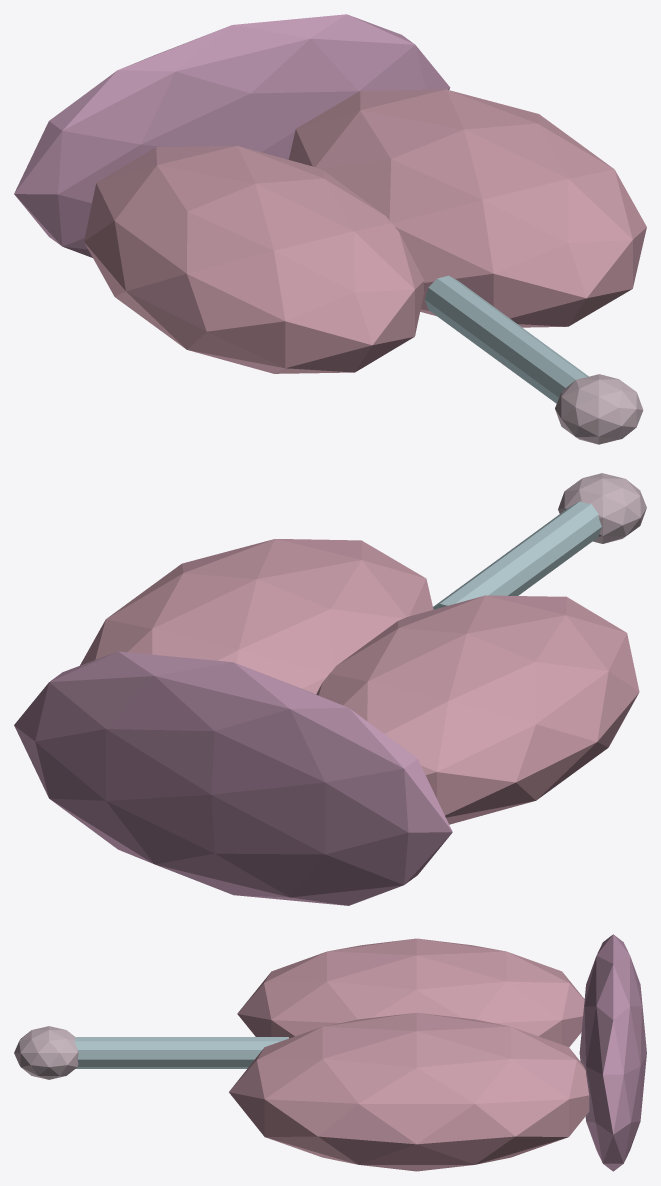
File: respiratory-g3-low.glb
3 views of the same model, one above another, from view 1: azimuth 30°, elevation 25°; view 2: azimuth 150°, elevation 25°; view 3: azimuth 270°, elevation 25° (orthographic). The views are drawn at different scales.
Visible parts, largest first — view 1: left_lung, right_lung, diaphragm, trachea, larynx_proxy; view 2: diaphragm, left_lung, right_lung, trachea, larynx_proxy; view 3: right_lung, left_lung, diaphragm, trachea, larynx_proxy.
Boxes of the visible parts, x1,y1,x2,y2 form: left_lung: (84, 145, 424, 373); right_lung: (288, 89, 646, 327); diaphragm: (14, 14, 450, 257); trachea: (425, 275, 588, 403); larynx_proxy: (555, 374, 643, 444); diaphragm: (14, 651, 452, 905); left_lung: (316, 595, 639, 824); right_lung: (80, 539, 433, 694); trachea: (433, 501, 601, 609); larynx_proxy: (558, 473, 646, 543); right_lung: (229, 1012, 589, 1171); left_lung: (237, 938, 584, 1047); diaphragm: (579, 934, 646, 1171); trachea: (74, 1037, 288, 1068); larynx_proxy: (14, 1026, 78, 1079).
Bounding box in the file's own units: 3.02 × 1.4 × 4.51.
